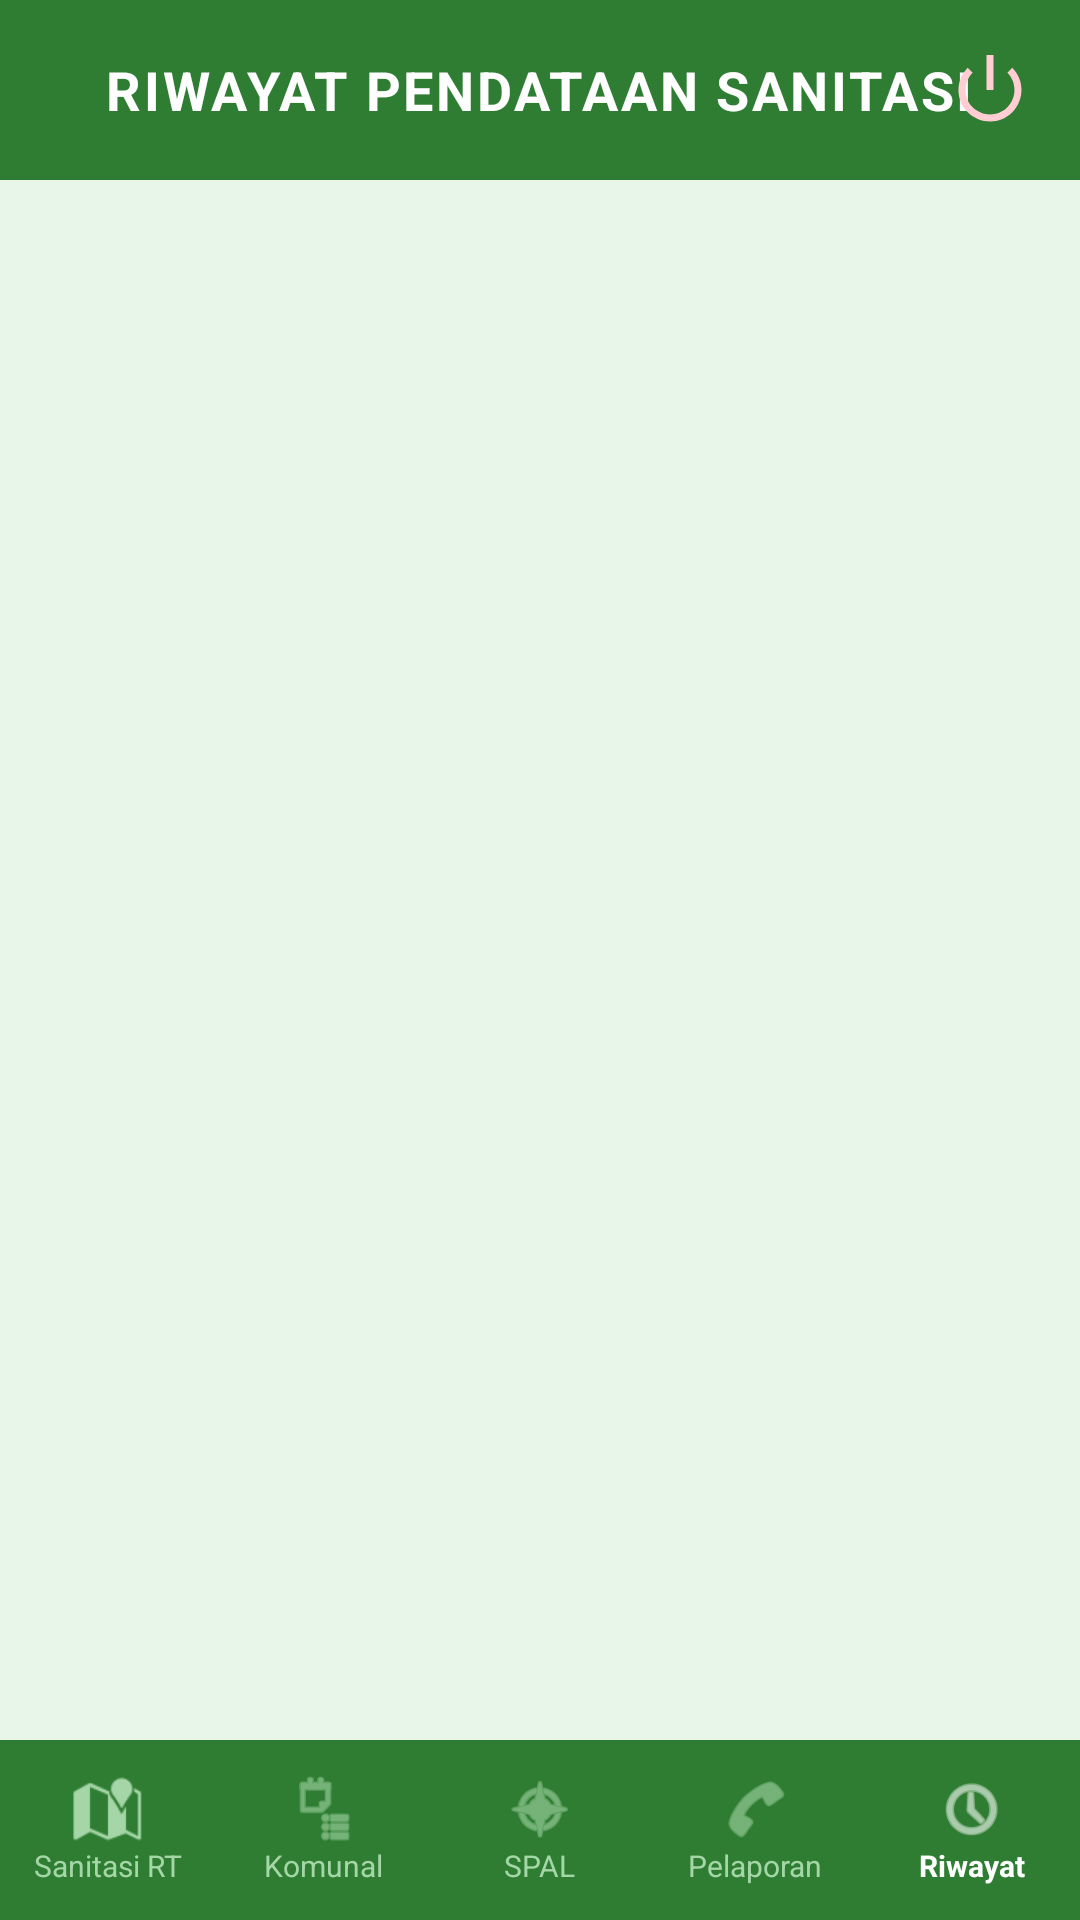

Icon click points for this 1080px×1920px phone screenshot, format (x=x, y=y):
agenda: (x=324, y=1808)
call: (x=756, y=1809)
compass: (x=540, y=1809)
map: (x=107, y=1808)
